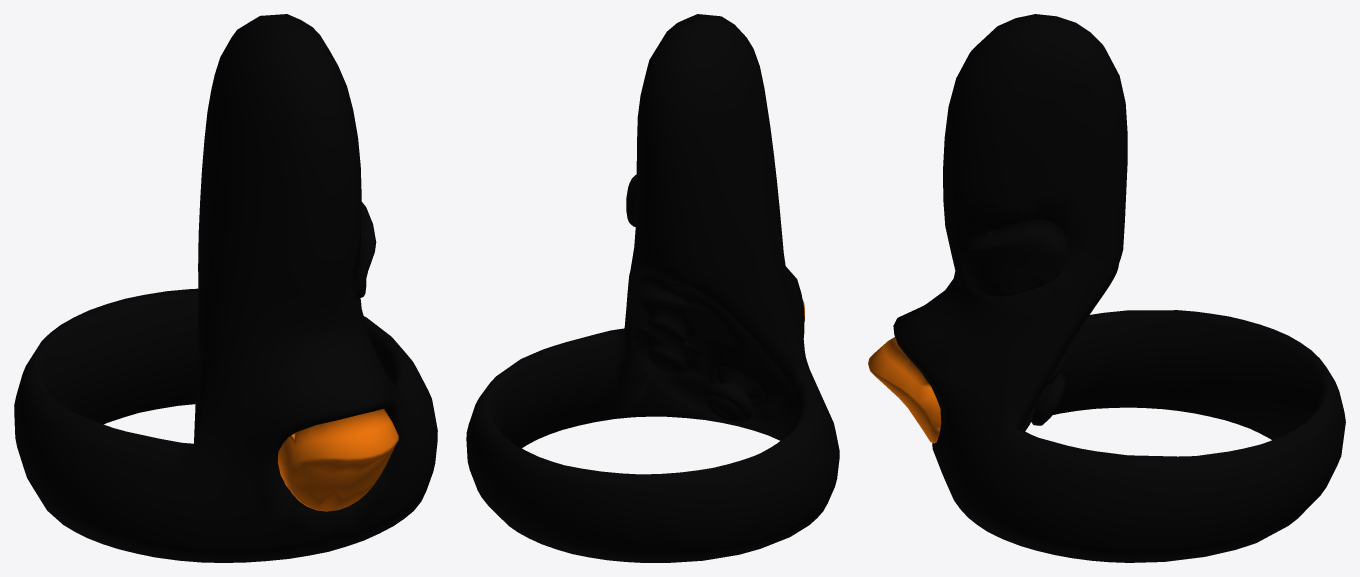
Rendered from OculusControllerL.fbx.
The picture shows the model from 3 angles, left to right: view 1: azimuth 30°, elevation 25°; view 2: azimuth 150°, elevation 25°; view 3: azimuth 270°, elevation 25°; orthographic projection. The views are drawn at different scales.
Parts seen in each view (by area): view 1: Oculus Quest Controller Left; view 2: Oculus Quest Controller Left; view 3: Oculus Quest Controller Left.
Part boxes in pixels (<box>): Oculus Quest Controller Left: <box>14,14,437,562</box>; Oculus Quest Controller Left: <box>466,14,839,562</box>; Oculus Quest Controller Left: <box>868,14,1345,562</box>.
Bounding box in the file's own units: 9200 × 12007 × 11084.
